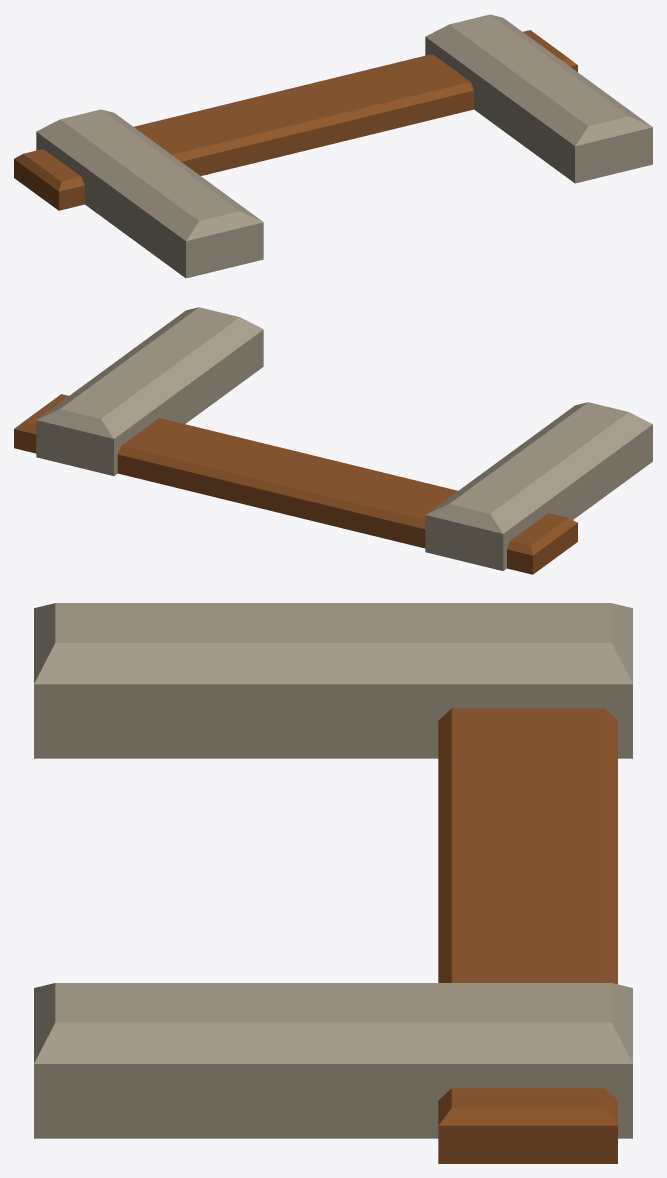
Rendered from RailPartOt.fbx.
The picture shows the model from 3 angles, top to bottom: view 1: azimuth 30°, elevation 25°; view 2: azimuth 150°, elevation 25°; view 3: azimuth 270°, elevation 25°; orthographic projection. The views are drawn at different scales.
Parts seen in each view (by area): view 1: Cube; view 2: Cube; view 3: Cube.
Boxes of the visible parts, <box> form: Cube: <box>14,14,652,278</box>; Cube: <box>14,307,652,574</box>; Cube: <box>34,603,632,1163</box>.
Bounding box in the file's own units: 400 × 36 × 200.
